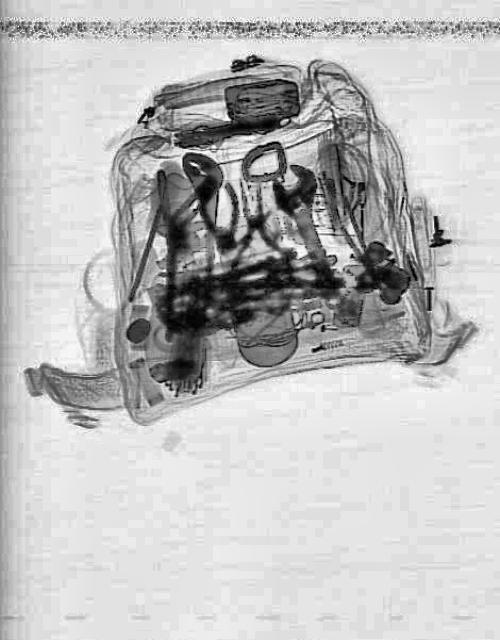Wrench: (262, 155, 360, 317)
